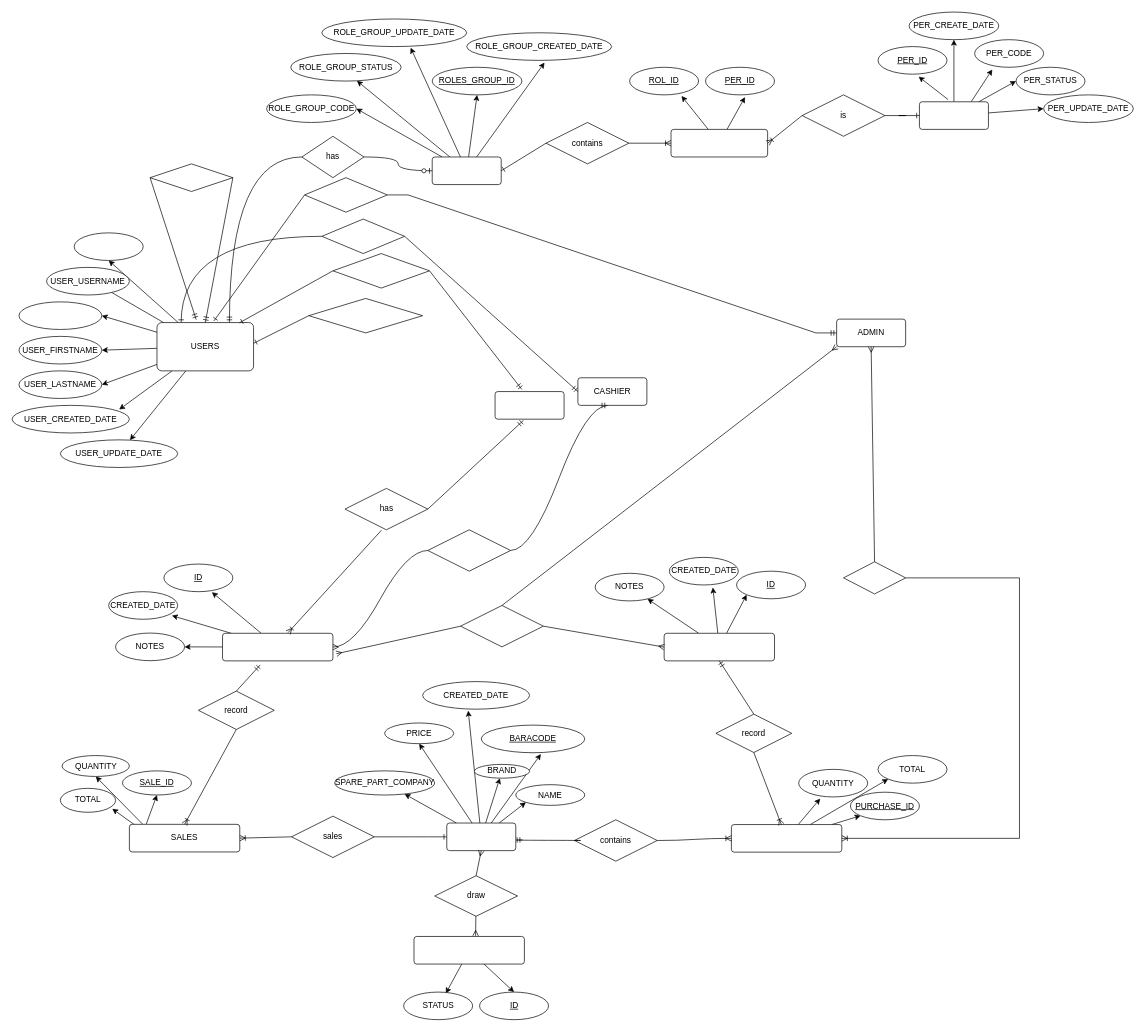
Image size: 1145x1032. Some labels were removed from this diagram. Each missing label, with the centre of its shape:
can_be_admin: (x=345, y=194)
can_be_cashier: (x=363, y=236)
can_be_customer: (x=381, y=270)
can_be_system_user: (x=365, y=315)
CUSTOMERS: (x=529, y=405)
export: (x=469, y=550)
export_to: (x=874, y=577)
manage: (x=501, y=626)
manage_profile: (x=191, y=177)
PERMISSIONS: (x=953, y=115)
PRODUCT: (x=481, y=836)
PURCHASE: (x=786, y=838)
PURCHASES_INVOICE: (x=719, y=647)
ROLES_GROUP: (x=466, y=170)
ROLES_PERMISSION: (x=719, y=143)
SALES_INVOICE: (x=277, y=647)
STORES: (x=468, y=950)
USER_ID: (x=108, y=246)
USER_PASSWORD: (x=60, y=315)
